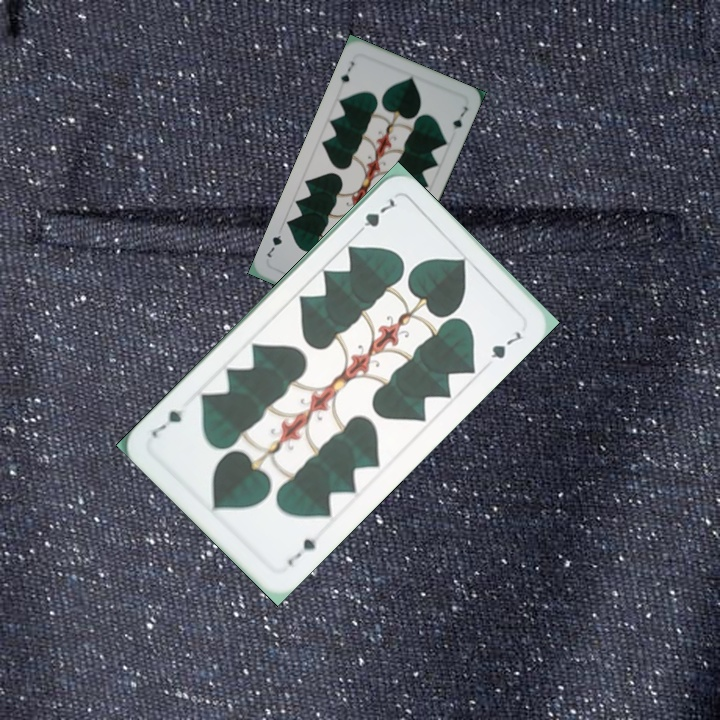G7: (351, 193, 397, 239), (283, 534, 319, 569), (337, 57, 357, 86)
